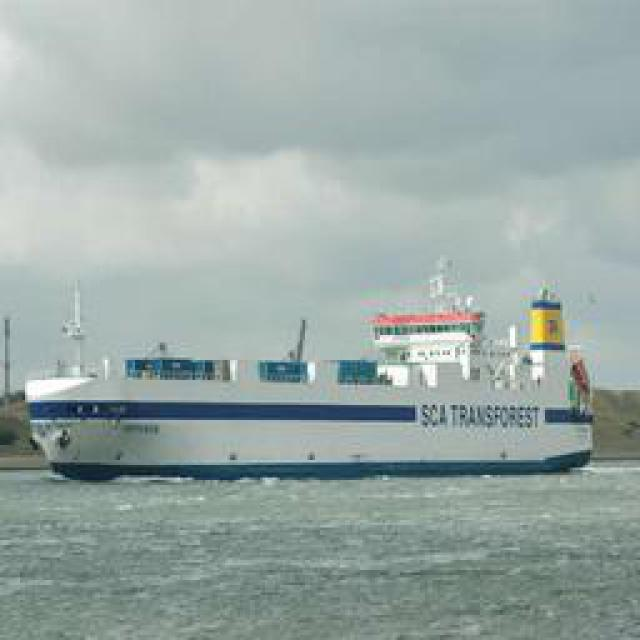Ship: (29, 276, 599, 486)
